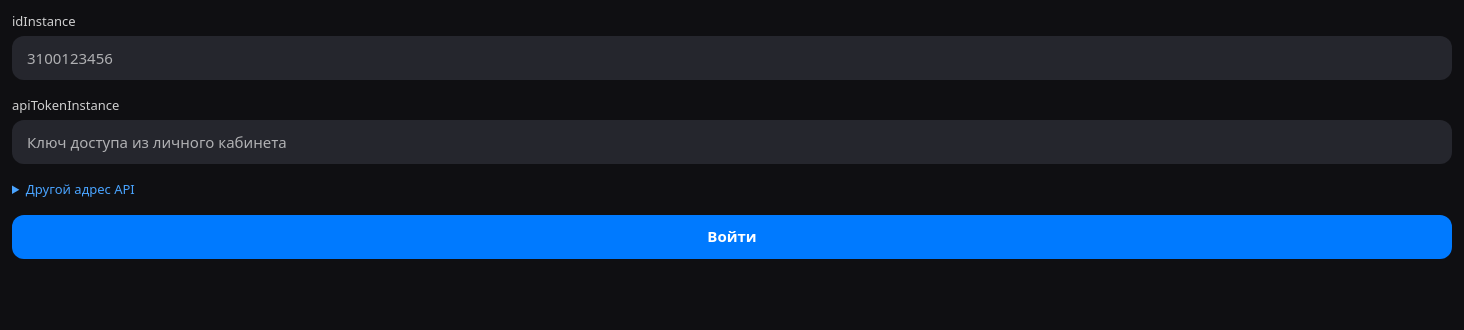
Test: LoginForm › explains a wrong idInstance
Click the field labelled "idInstance". click: (732, 58)
box: x1=12 y1=36 x2=1452 y2=80
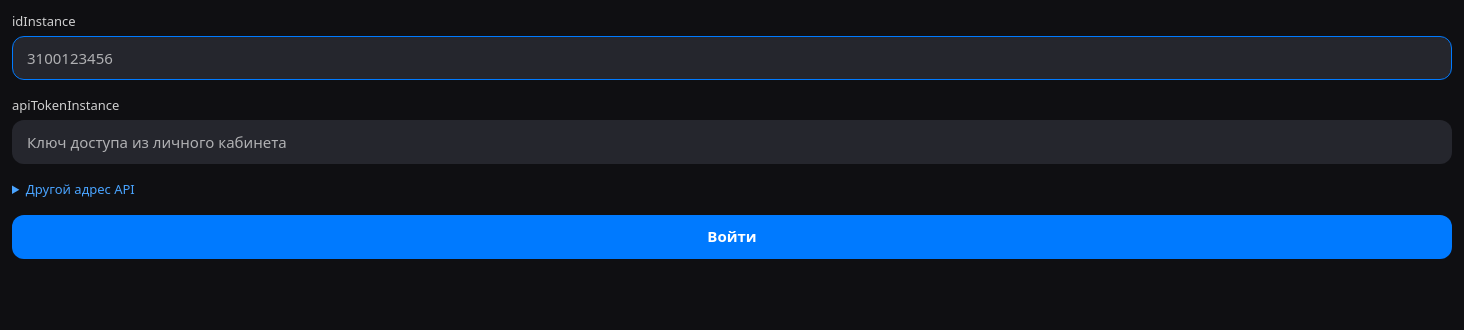
Type keys "3100000001"
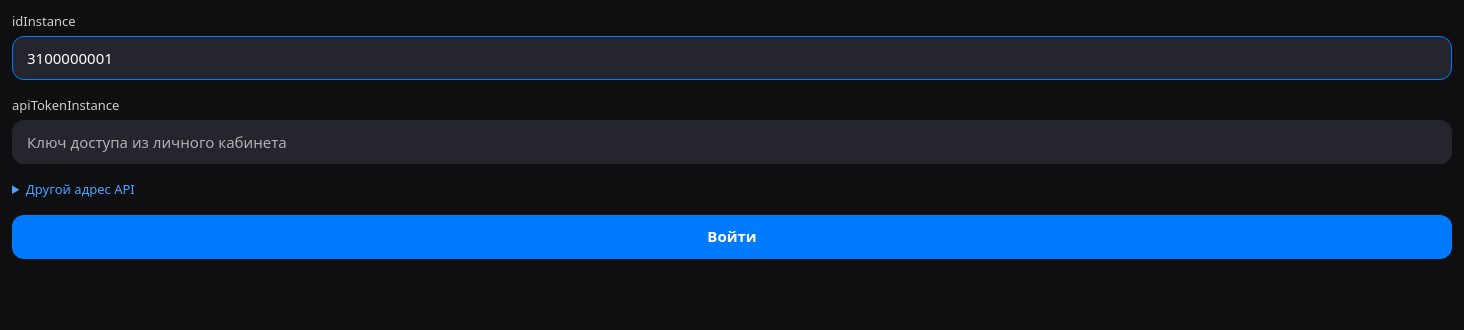
Click the password field labelled "apiTokenInstance". click: (732, 142)
box: x1=12 y1=120 x2=1452 y2=164
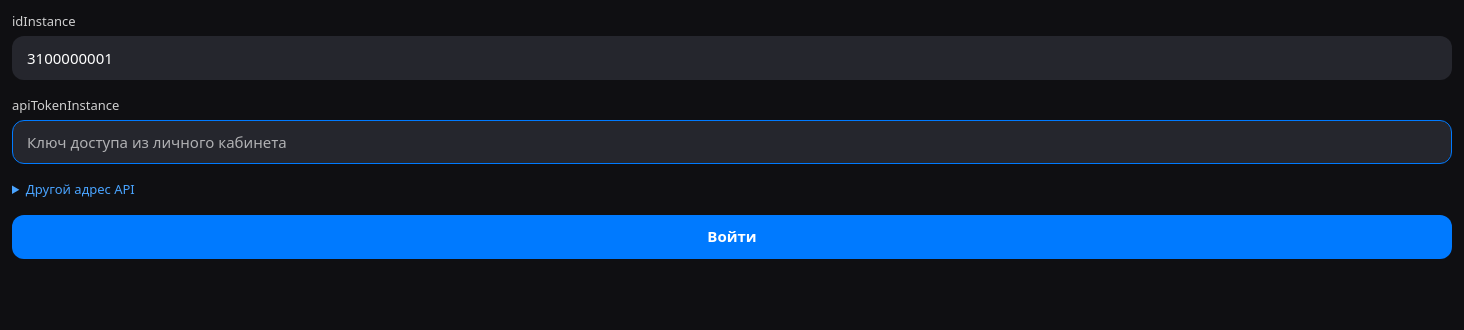
Type keys "d75b3a66374942c5b3c019c698abc2067e151558acbd412345"
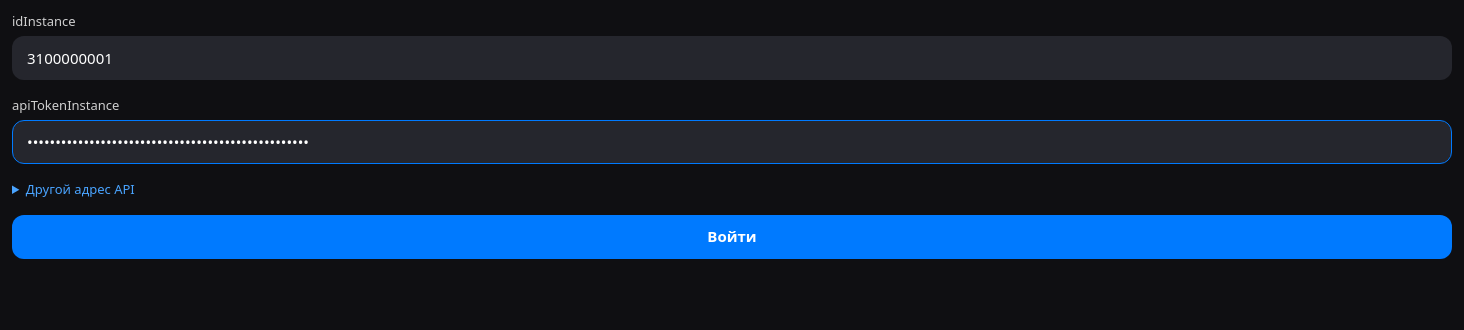
Click the button "Войти". click: (732, 237)
box: x1=12 y1=215 x2=1452 y2=259
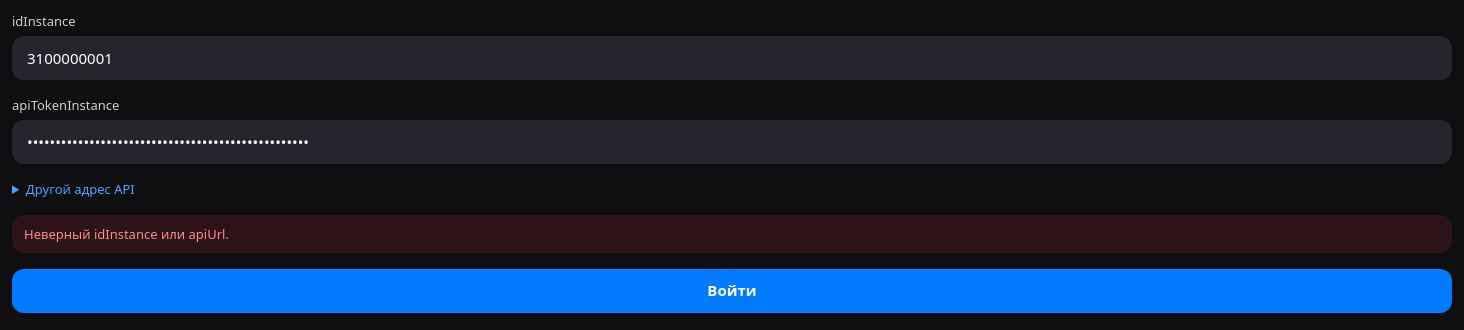
Expected: the button "Войти" is enabled, x1=12 y1=269 x2=1452 y2=313
Now the message reads "Неверный idInstance или apiUrl.", box x1=24 y1=225 x2=229 y2=243
